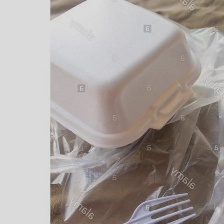foam_box: (51, 0, 206, 151)
